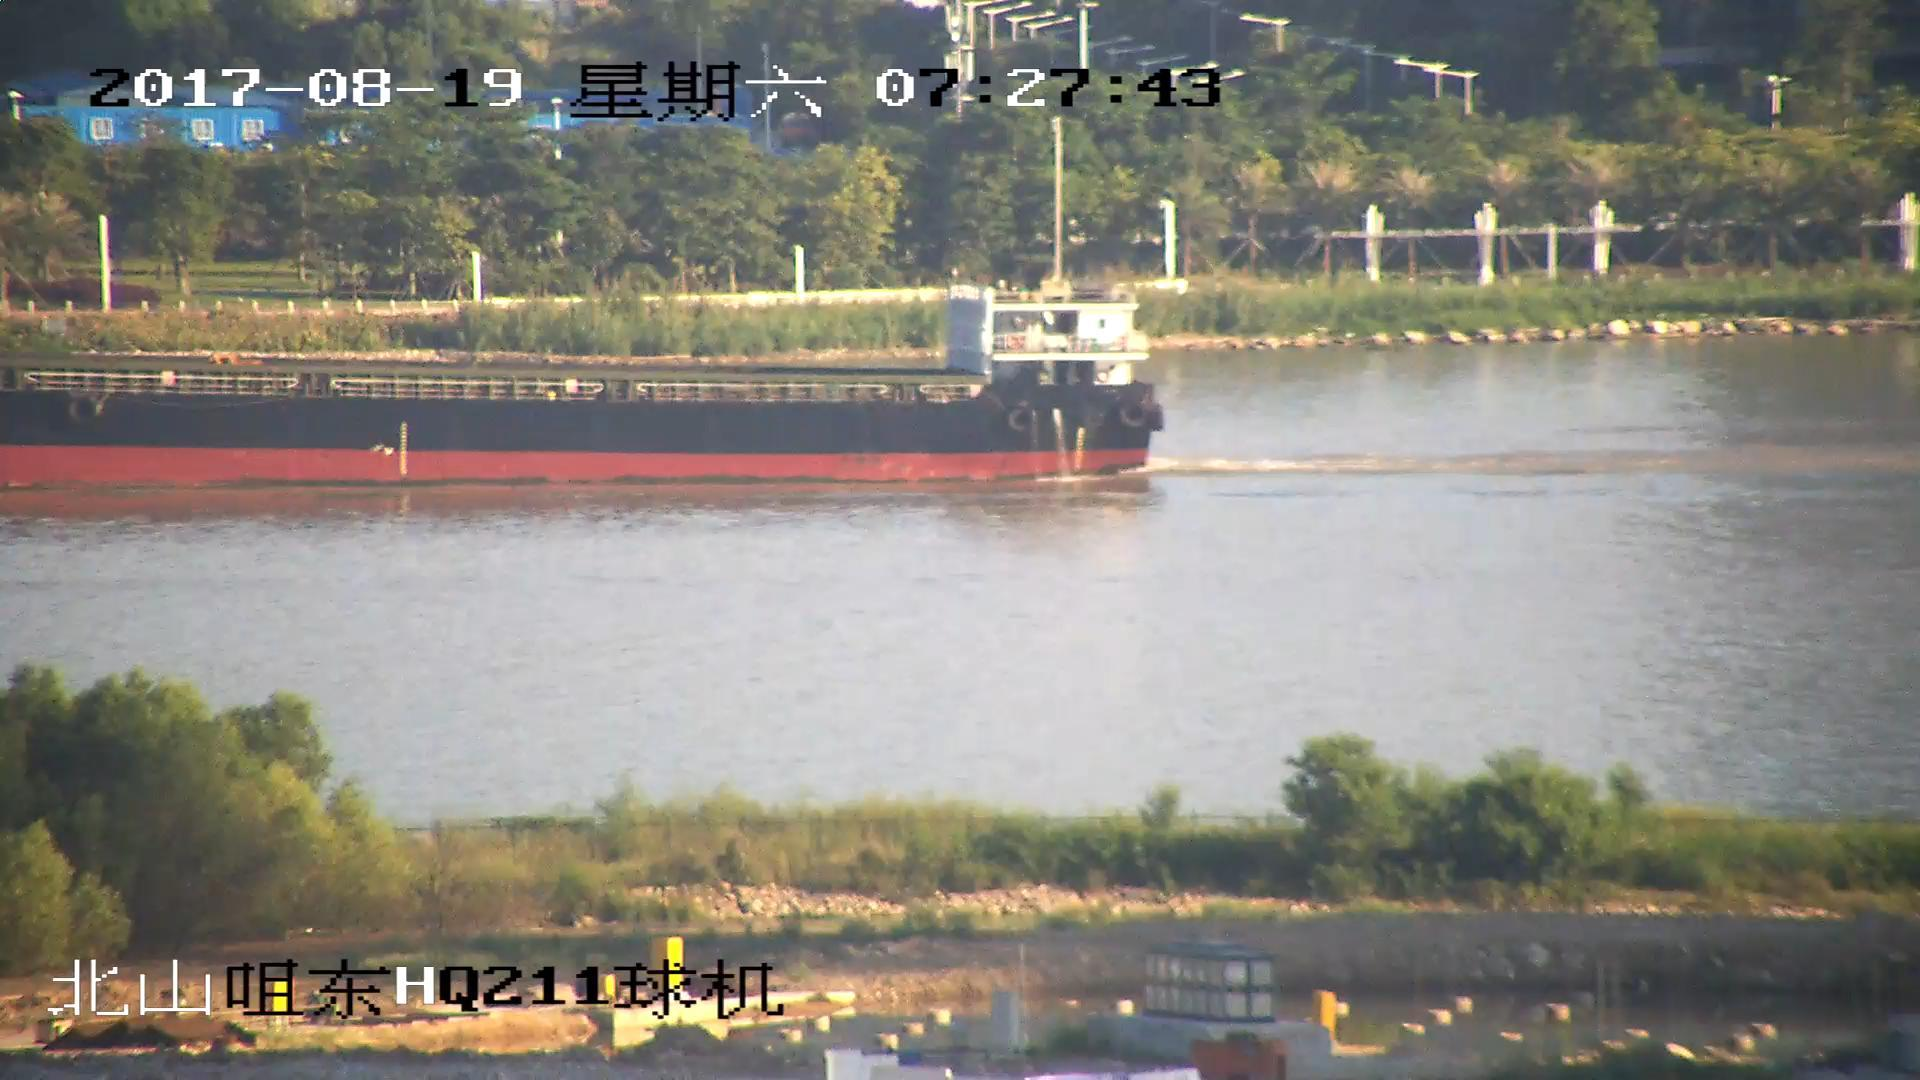Ship: (3, 144, 1174, 498)
